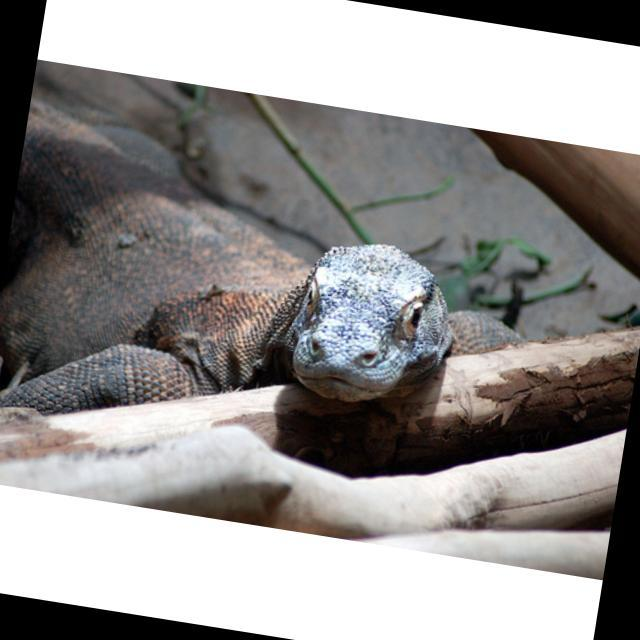KomodoDragon: (0, 98, 549, 490)
